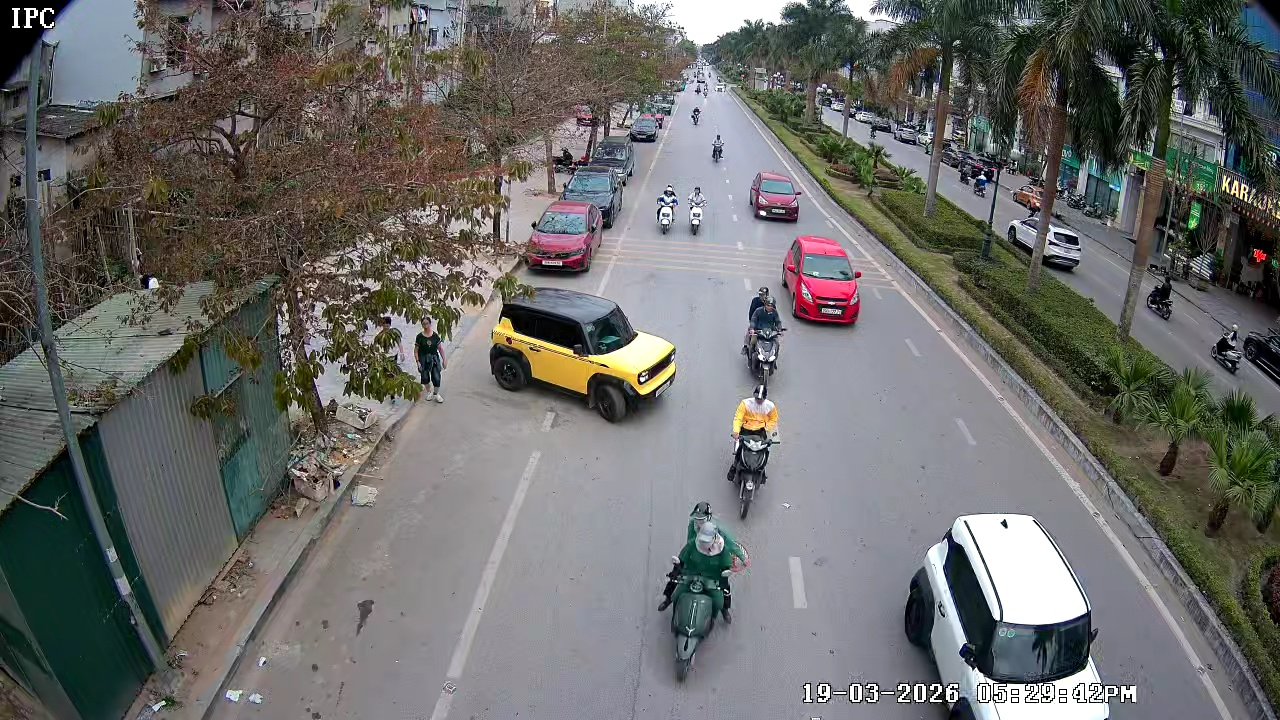car: (904, 511, 1275, 719), (489, 289, 677, 421), (781, 236, 862, 327), (524, 201, 597, 275), (750, 170, 803, 224)
motorbike: (657, 500, 750, 684), (722, 379, 783, 519), (739, 283, 785, 384), (655, 182, 679, 234), (687, 192, 708, 236), (711, 135, 729, 163), (691, 107, 706, 127)
pedestrian: (413, 317, 447, 406)
